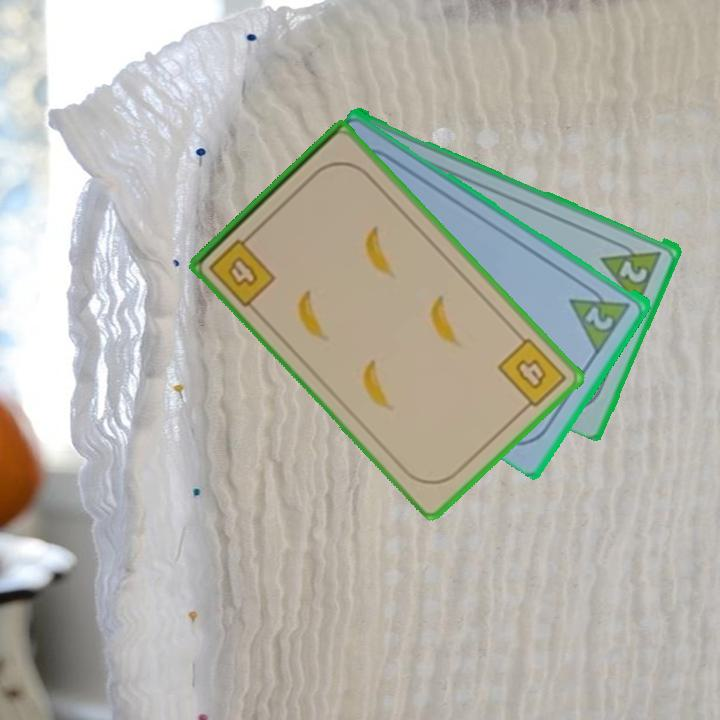2p: (598, 234, 666, 307), (582, 302, 617, 333)
4b: (494, 334, 570, 415), (205, 228, 279, 310)
